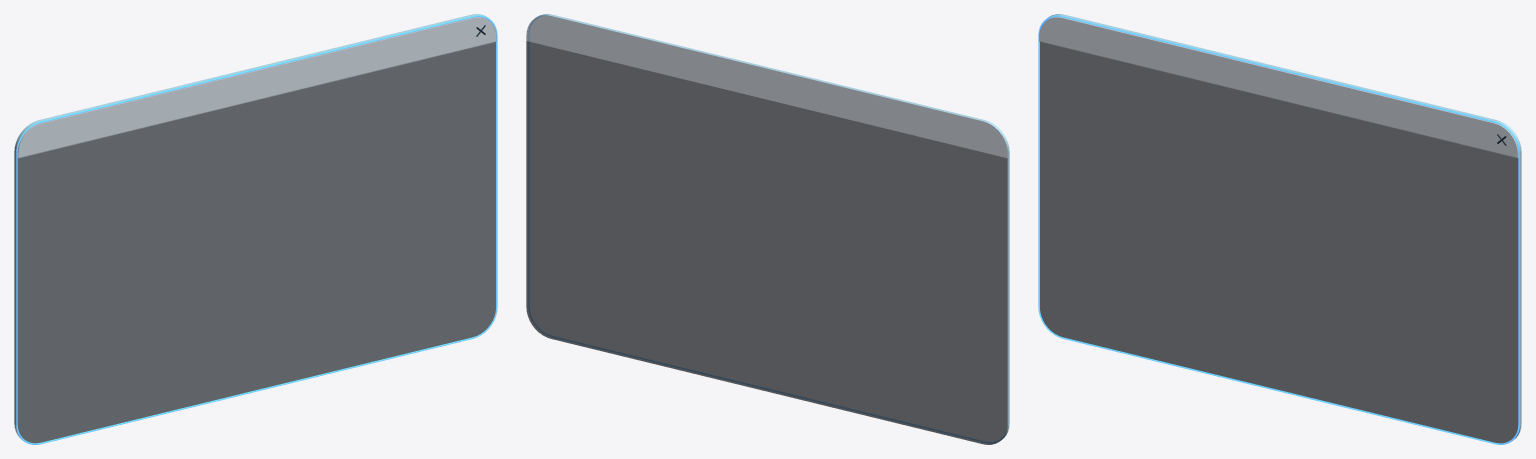
File: window-panel-37ba8e.glb
The picture shows the model from 3 angles, left to right: view 1: azimuth 30°, elevation 25°; view 2: azimuth 150°, elevation 25°; view 3: azimuth 330°, elevation 25°; orthographic projection.
Visible parts, largest first — view 1: glass, accent-line, rim-and-close; view 2: glass, rim-and-close, accent-line; view 3: glass, accent-line, rim-and-close.
Boxes of the visible parts, x1=… form: glass: x1=17, y1=17, x2=496, y2=443; accent-line: x1=16, y1=15, x2=497, y2=444; rim-and-close: x1=14, y1=14, x2=487, y2=438; glass: x1=526, y1=15, x2=1007, y2=444; rim-and-close: x1=536, y1=14, x2=1009, y2=438; accent-line: x1=529, y1=16, x2=1005, y2=442; glass: x1=1039, y1=17, x2=1518, y2=443; accent-line: x1=1038, y1=15, x2=1519, y2=444; rim-and-close: x1=1048, y1=14, x2=1521, y2=438.
Bounding box in the file's own units: 0.78 × 0.5 × 0.0081.
